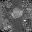people: (11, 8, 23, 19)
